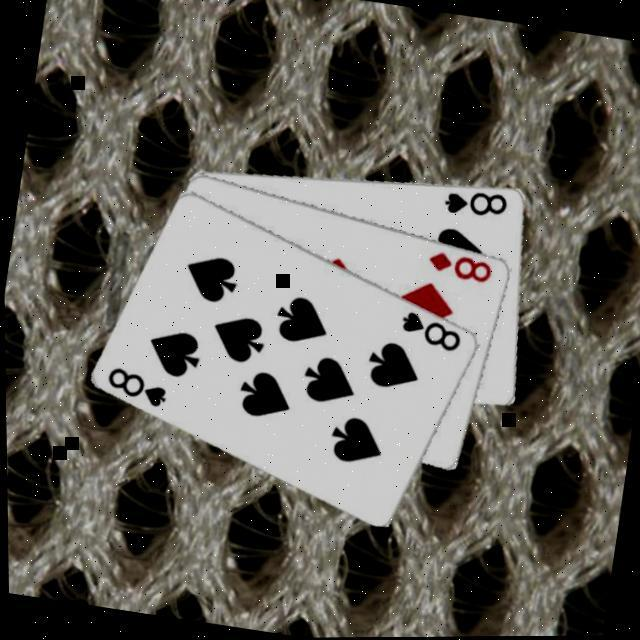8D: (424, 250, 498, 290)
8S: (395, 309, 469, 359), (102, 364, 174, 414), (441, 185, 513, 227)
